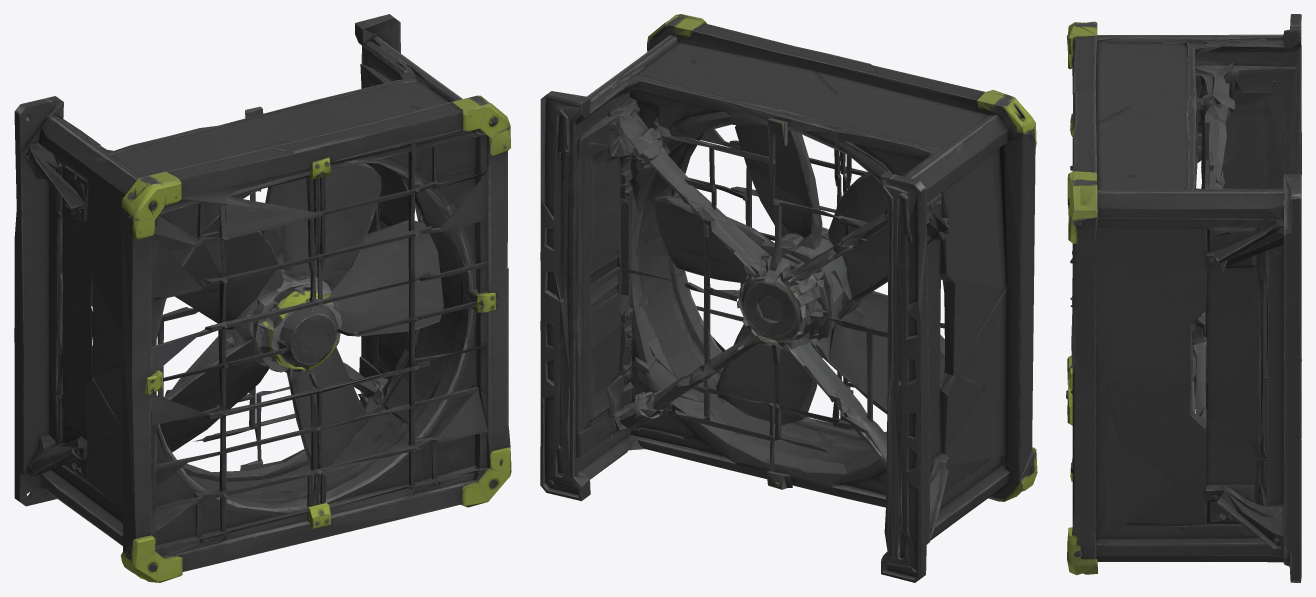
The model's file is exhaust-fan.glb.
3 renders of one model, left to right at view 1: azimuth 30°, elevation 25°; view 2: azimuth 150°, elevation 25°; view 3: azimuth 270°, elevation 25°, orthographic.
Parts seen in each view (by area): view 1: mesh_node; view 2: mesh_node; view 3: mesh_node.
Boxes of the visible parts, x1=… form: mesh_node: x1=14, y1=14, x2=511, y2=582; mesh_node: x1=540, y1=14, x2=1037, y2=582; mesh_node: x1=1066, y1=14, x2=1301, y2=582.
Size of the model in its own units: 1.9 by 1.9 by 1.04.
Materials: 1 (1 with a texture image).
